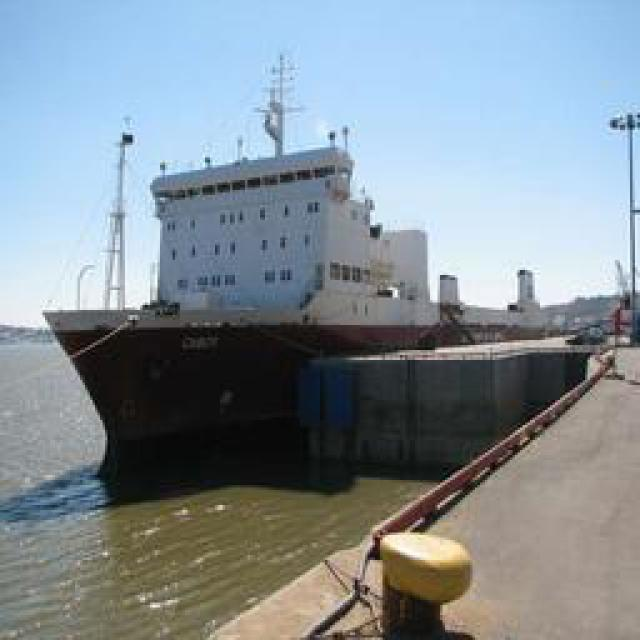Ship: (44, 62, 454, 475)
